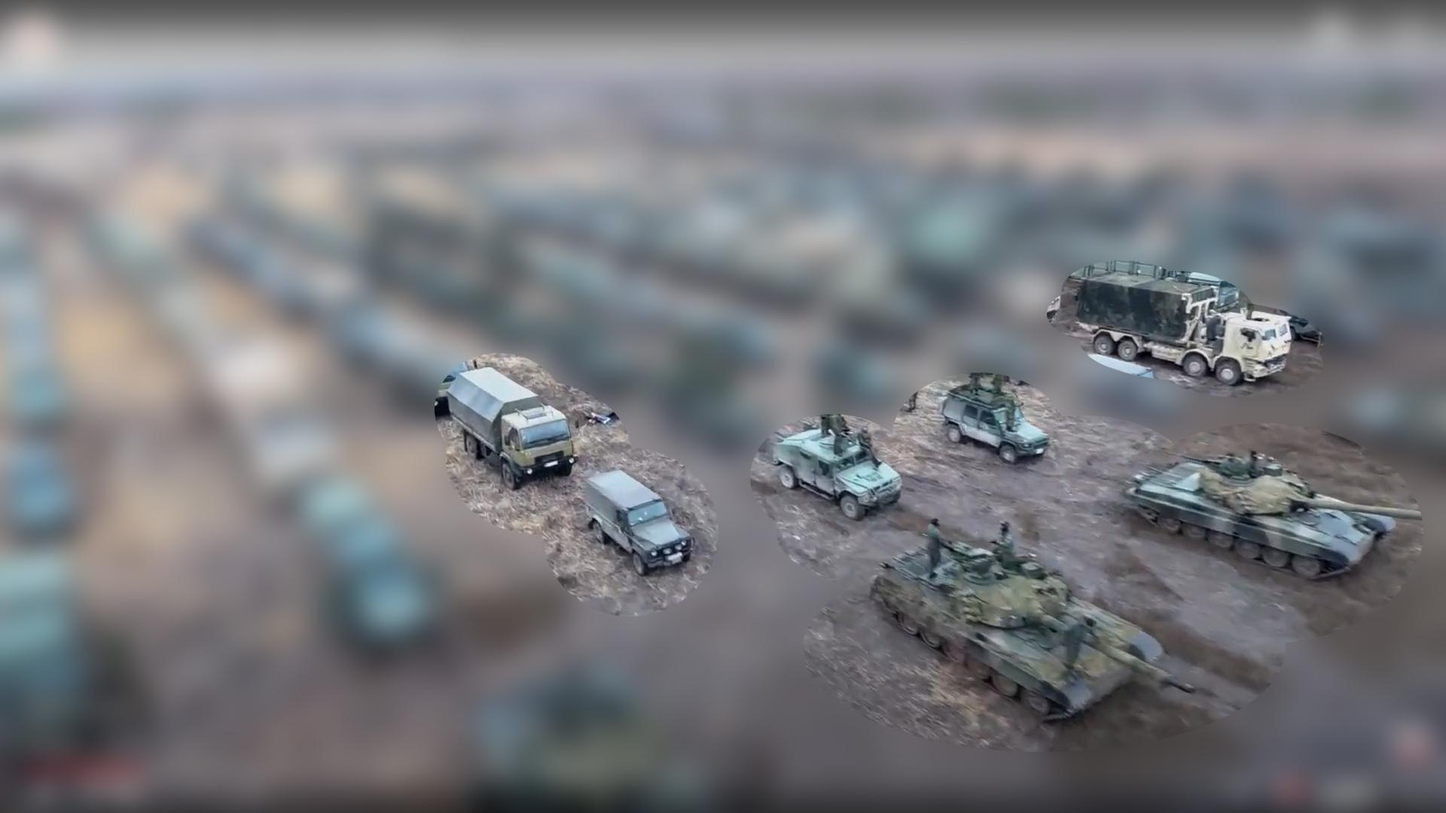armored_car: (581, 467, 695, 574), (772, 428, 904, 520), (936, 378, 1051, 463)
tank: (872, 540, 1200, 722), (1123, 449, 1426, 578)
truck: (1046, 261, 1315, 387), (444, 365, 584, 489)
